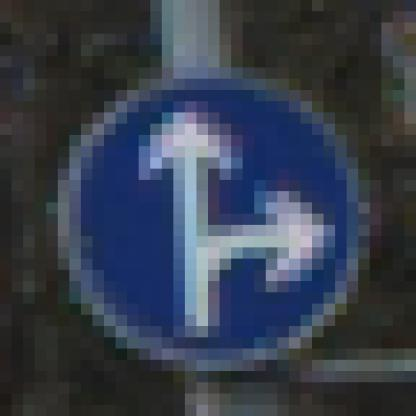Straight or Right: (59, 57, 359, 361)
